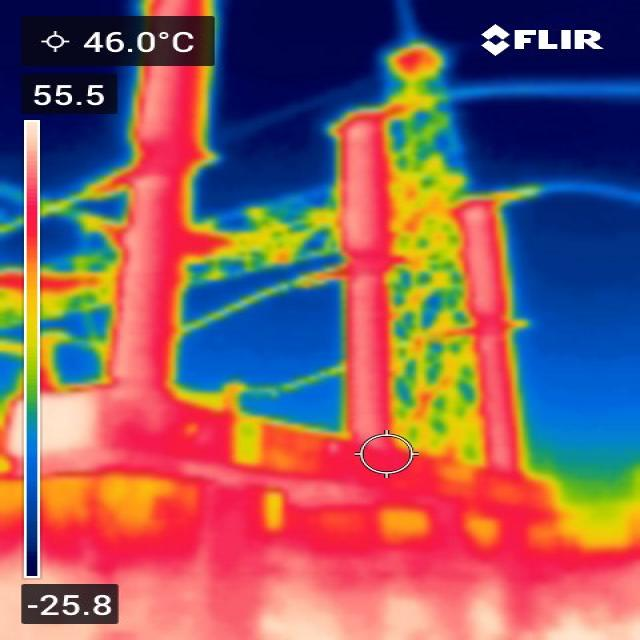Zona_Critica: (45, 478, 525, 561), (321, 447, 438, 499), (132, 403, 227, 463)
Zona_Extrema: (49, 553, 637, 639), (111, 67, 175, 403), (464, 206, 526, 472), (348, 119, 376, 398), (45, 395, 96, 453)
